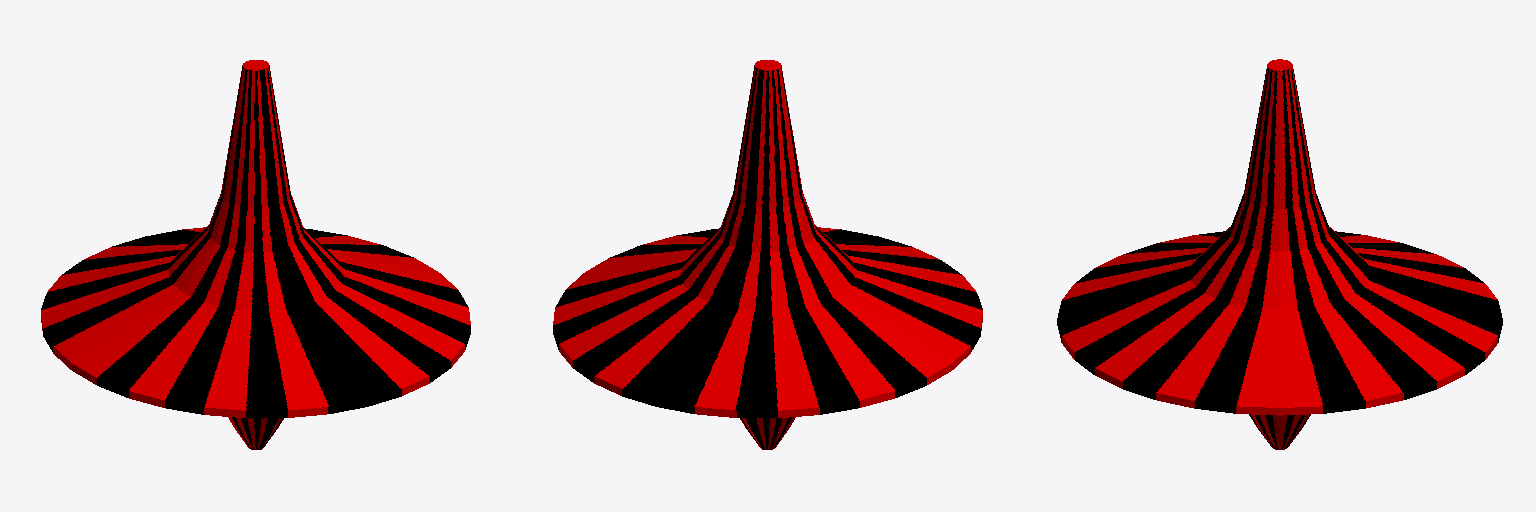
3 views of the same model, side by side, from view 1: azimuth 30°, elevation 25°; view 2: azimuth 150°, elevation 25°; view 3: azimuth 270°, elevation 25° (orthographic).
Visible parts, largest first — view 1: Cylinder; view 2: Cylinder; view 3: Cylinder.
Boxes of the visible parts, x1,y1,x2,y2 form: Cylinder: [41, 60, 470, 449]; Cylinder: [553, 60, 982, 449]; Cylinder: [1057, 59, 1502, 449].
Size of the model in its own units: 4.3 by 4.26 by 4.5.
Materials: 2 (1 with a texture image).